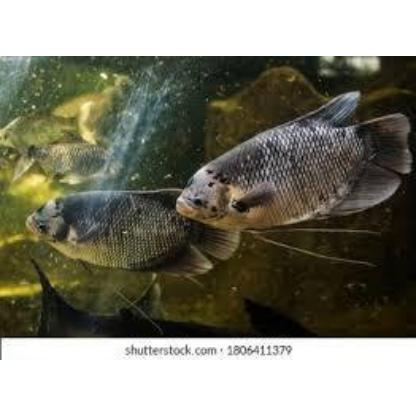gurame: (184, 100, 416, 228), (25, 185, 239, 275)
